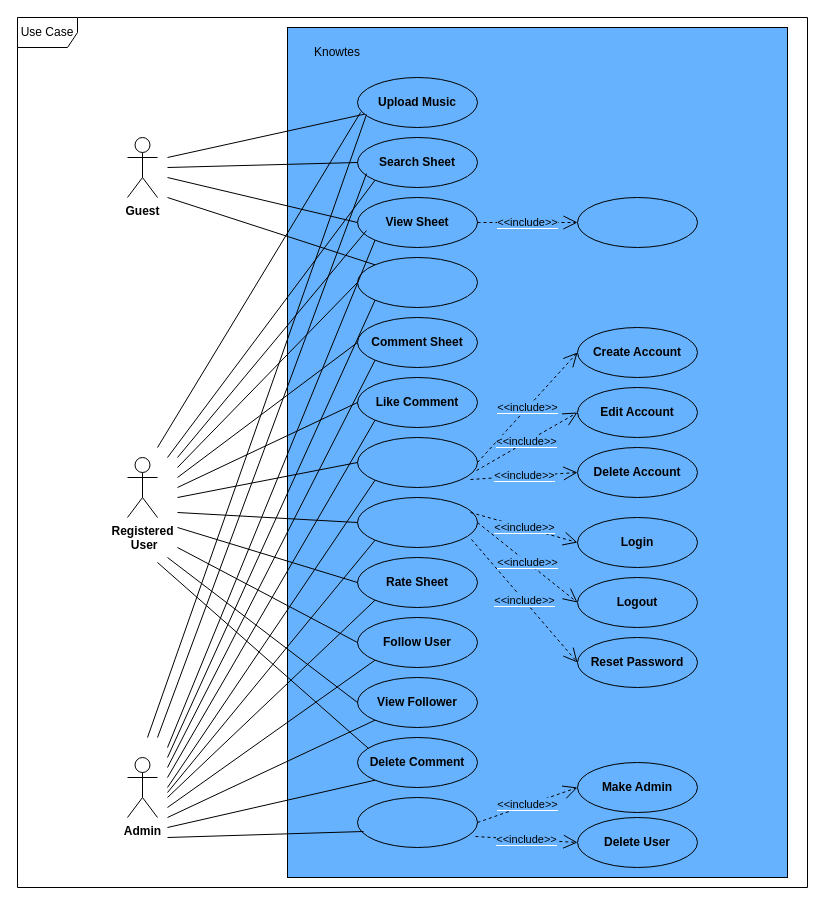
Some shapes in this 825 by 905 pixel diagram are drawn without their labels. The centre of each missing label's shape, as x and y in pixels:
Authenticate: (x=417, y=522)
Download Sheet: (x=637, y=222)
Manage Account: (x=417, y=462)
Manage User Accounts: (x=417, y=822)
Search User: (x=417, y=282)
